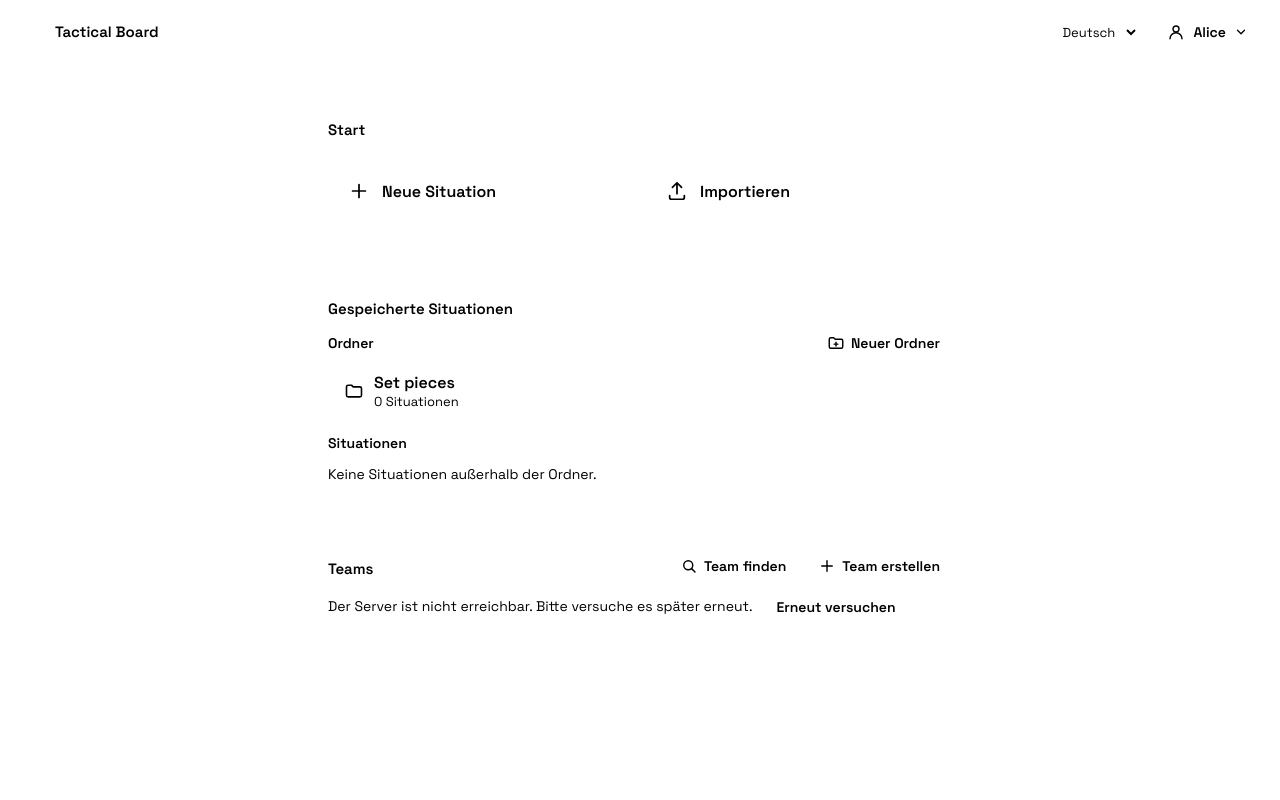
start page › saved situations › in German: the page, the dialog and the server's refusal are German
This screenshot has width=1280, height=800.
Check: the element "Start" is shown, box [304,96,976,251]
Check: the button "Neue Situation" is shown, box [328,155,634,227]
Click the button "Neuer Ordner": coordinates (883, 343) [815,334,952,352]
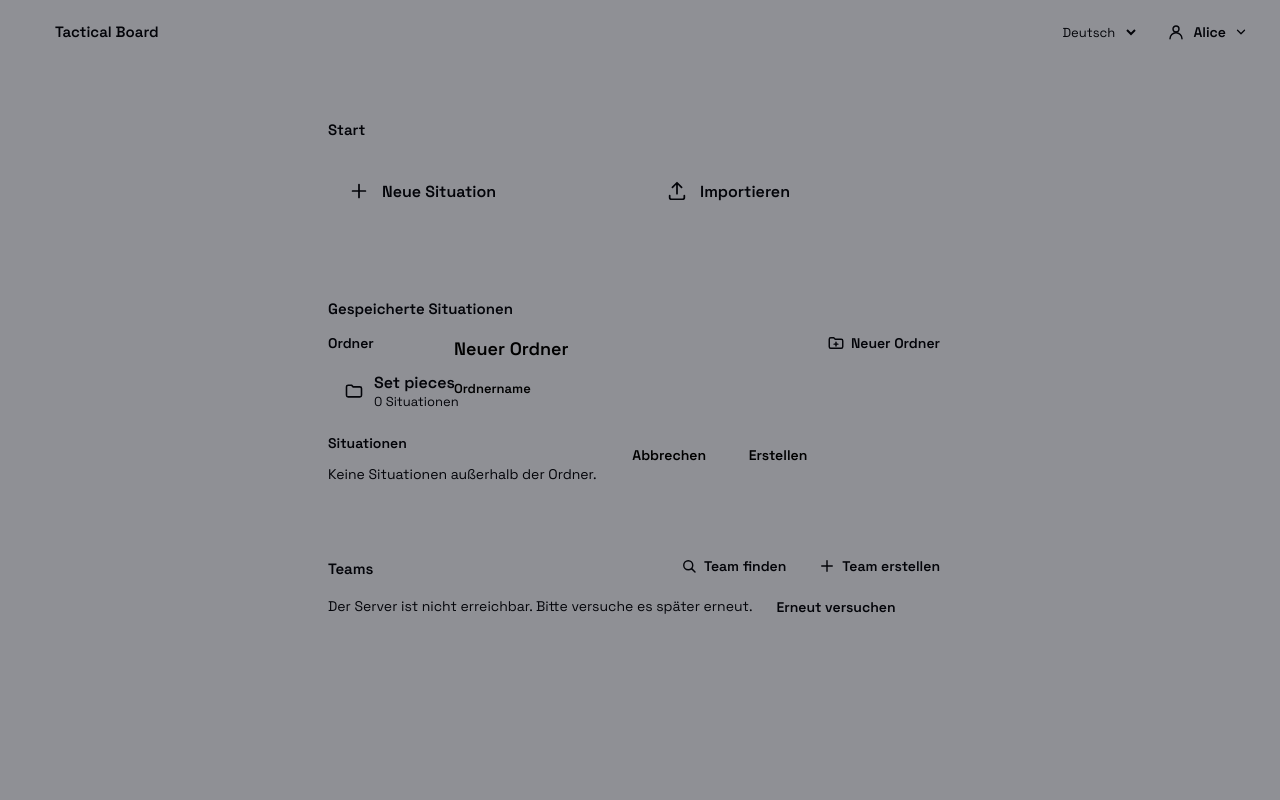
In the field labelled "Ordnername": coordinates (640, 415) [454,404,826,426], type "set pieces"
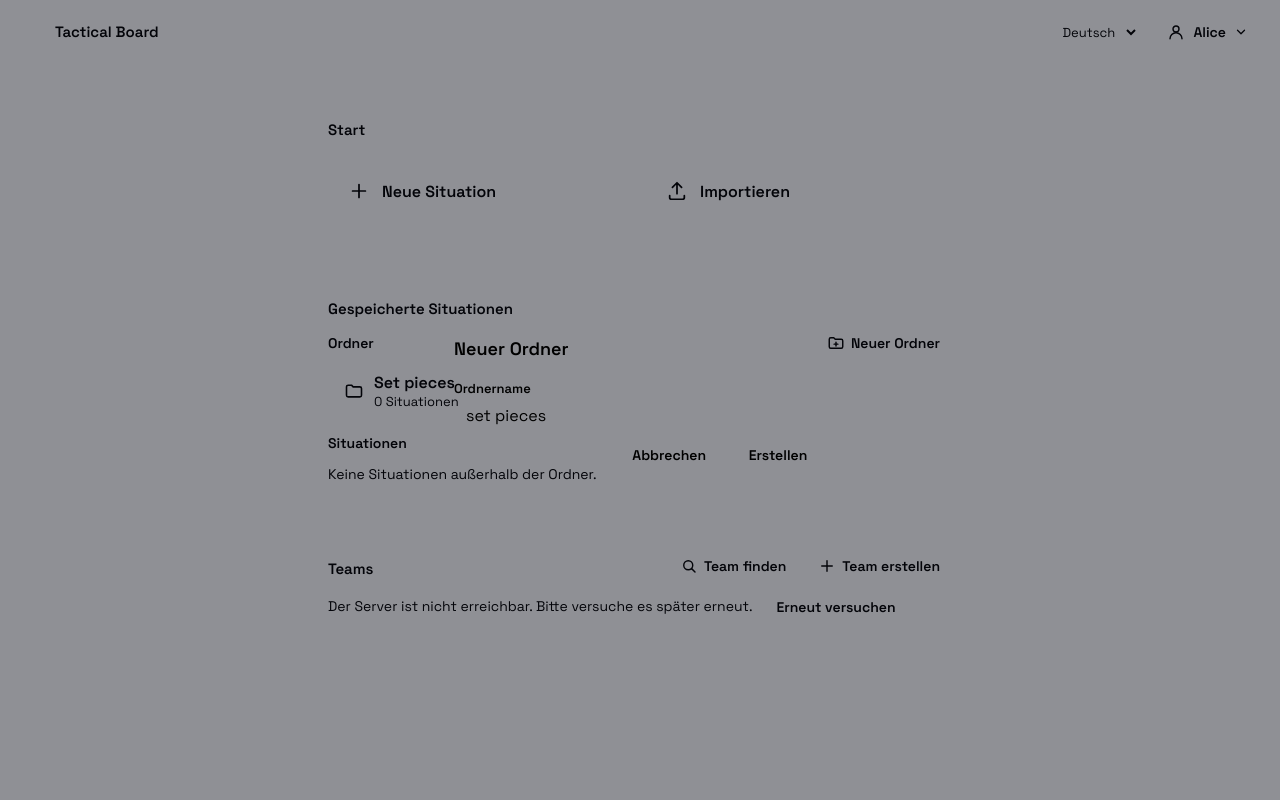
Click the button "Erstellen": coordinates (778, 454) [730,446,826,464]
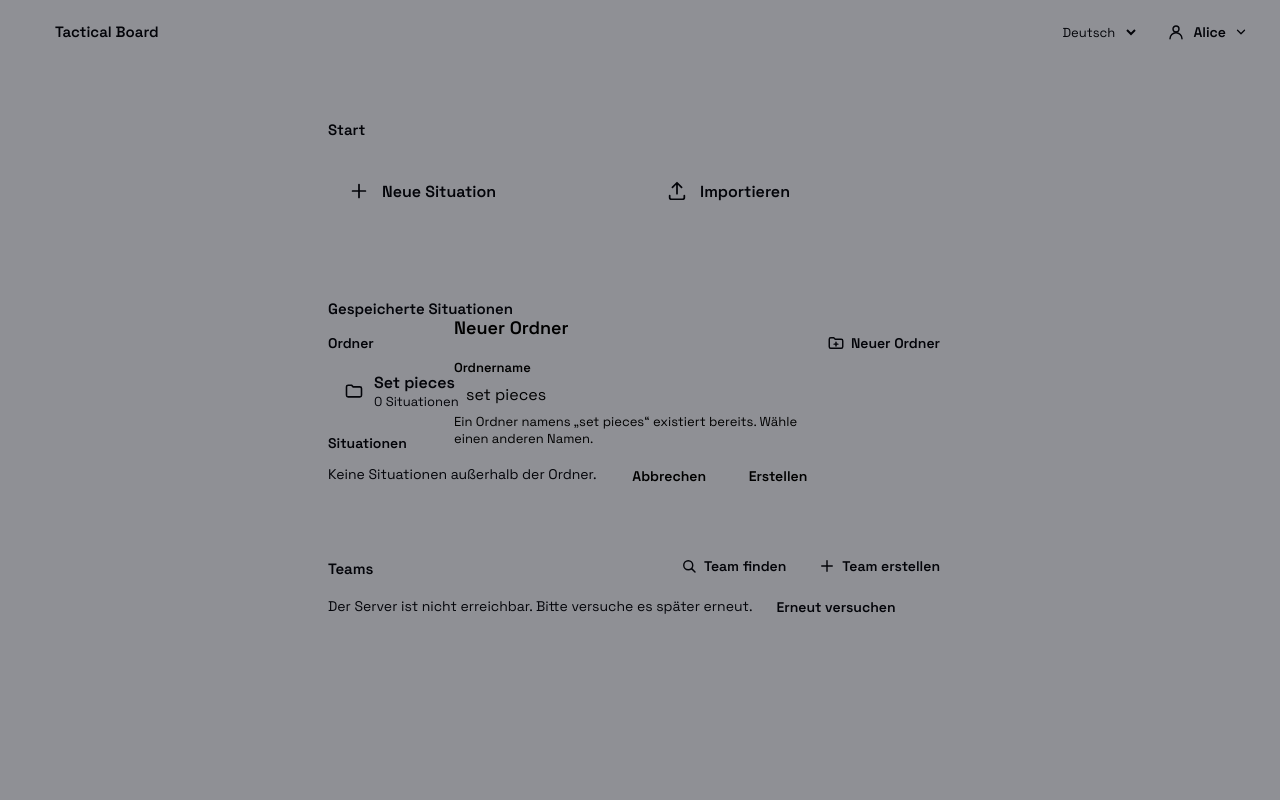
Check: the message reads "Ein Ordner namens „set pieces“ existiert bereits. Wähle einen anderen Namen.", box [454,412,797,446]
